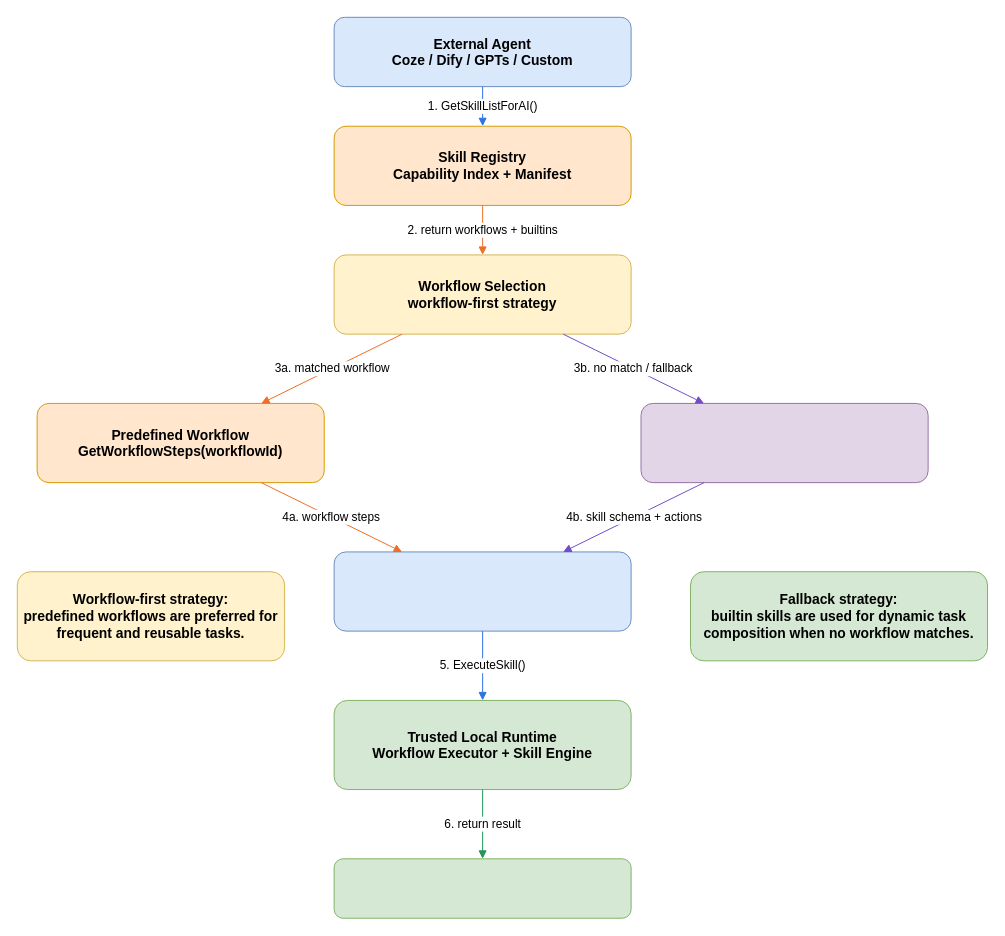
The diagram is 1005 pixels wide and 936 high, and some of its shapes have lost their labels. Each missing label, with the box of its shape:
Builtin Skill Detail GetBuiltinSkillDetail(skillCode): (640, 402, 928, 483)
ExecuteSkill skillCode + arguments + steps: (333, 551, 631, 631)
Structured Execution Result: (333, 858, 631, 918)
